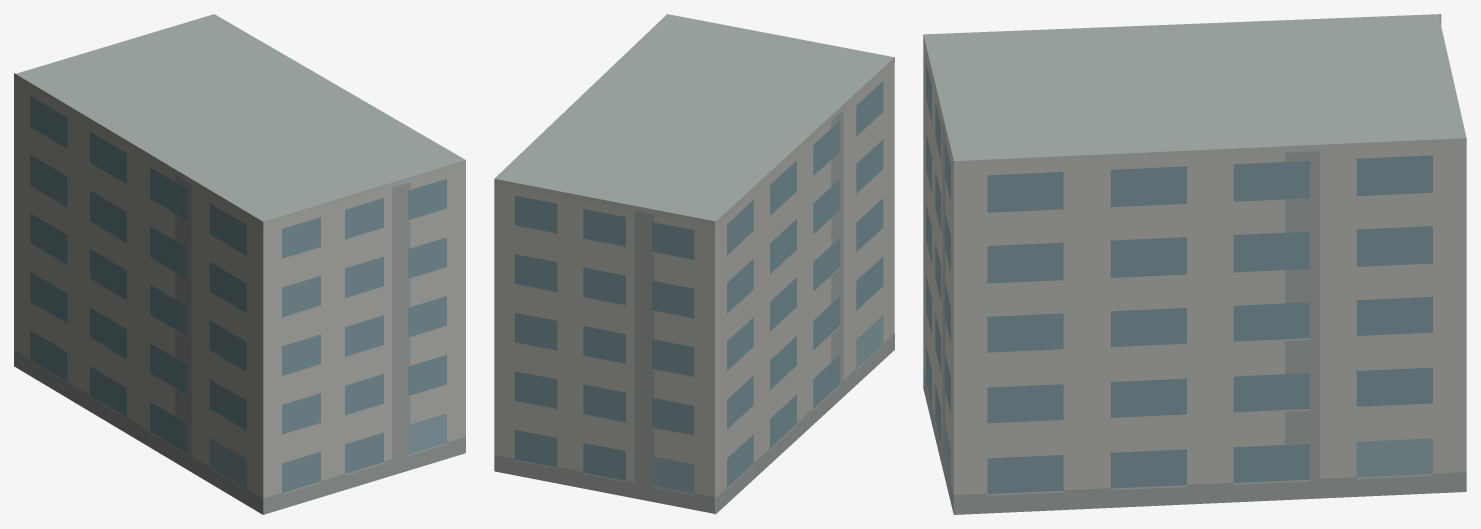
Rendered from survey-upis-32568099.glb.
3 renders of one model, left to right at view 1: azimuth 30°, elevation 25°; view 2: azimuth 150°, elevation 25°; view 3: azimuth 270°, elevation 25°, orthographic. The views are drawn at different scales.
Visible parts, largest first — view 1: survey-upis-32568099.tmp; view 2: survey-upis-32568099.tmp; view 3: survey-upis-32568099.tmp.
Boxes of the visible parts, x1=… form: survey-upis-32568099.tmp: x1=14, y1=14, x2=465, y2=514; survey-upis-32568099.tmp: x1=494, y1=14, x2=894, y2=514; survey-upis-32568099.tmp: x1=923, y1=14, x2=1466, y2=514.
Bounding box in the file's own units: 11.96 × 13.4 × 18.66.
